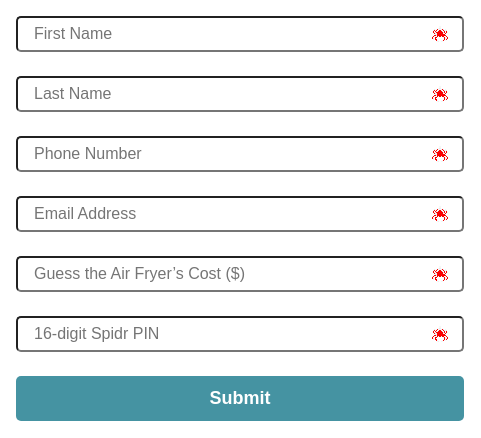
Test: SpidrForm Environment Test › formats PIN input as ####-####-####-####
The width and height of the screenshot is (481, 438).
Type "1234567890123456" into the field with placeholder "16-digit Spidr PIN" at (240, 334), box [16, 316, 464, 352]
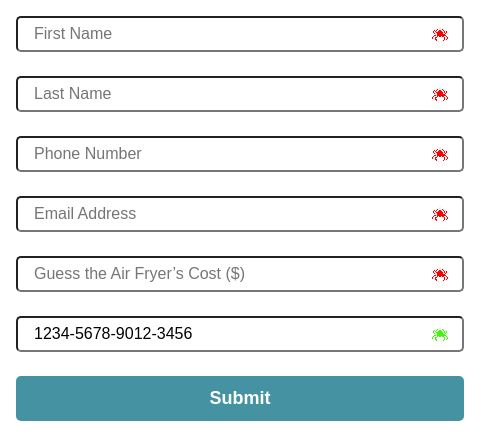
Check: the field with placeholder "16-digit Spidr PIN" holds "1234-5678-9012-3456", box [16, 316, 464, 352]
